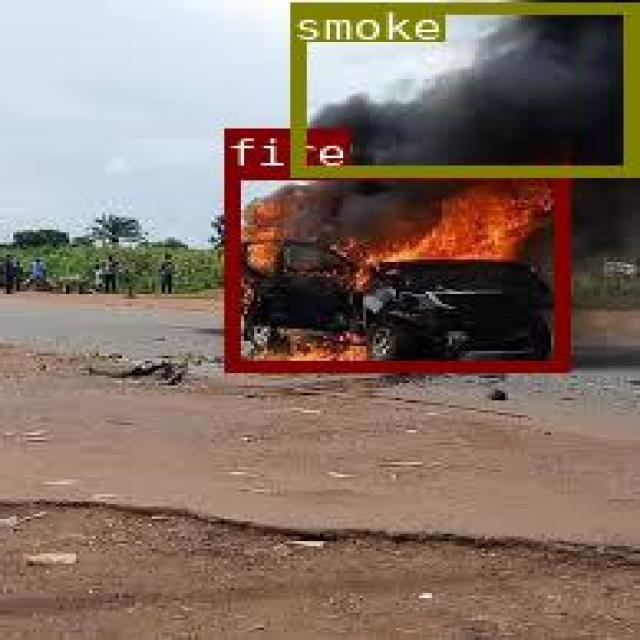fire: (223, 168, 566, 368)
smoke: (290, 0, 633, 173)
